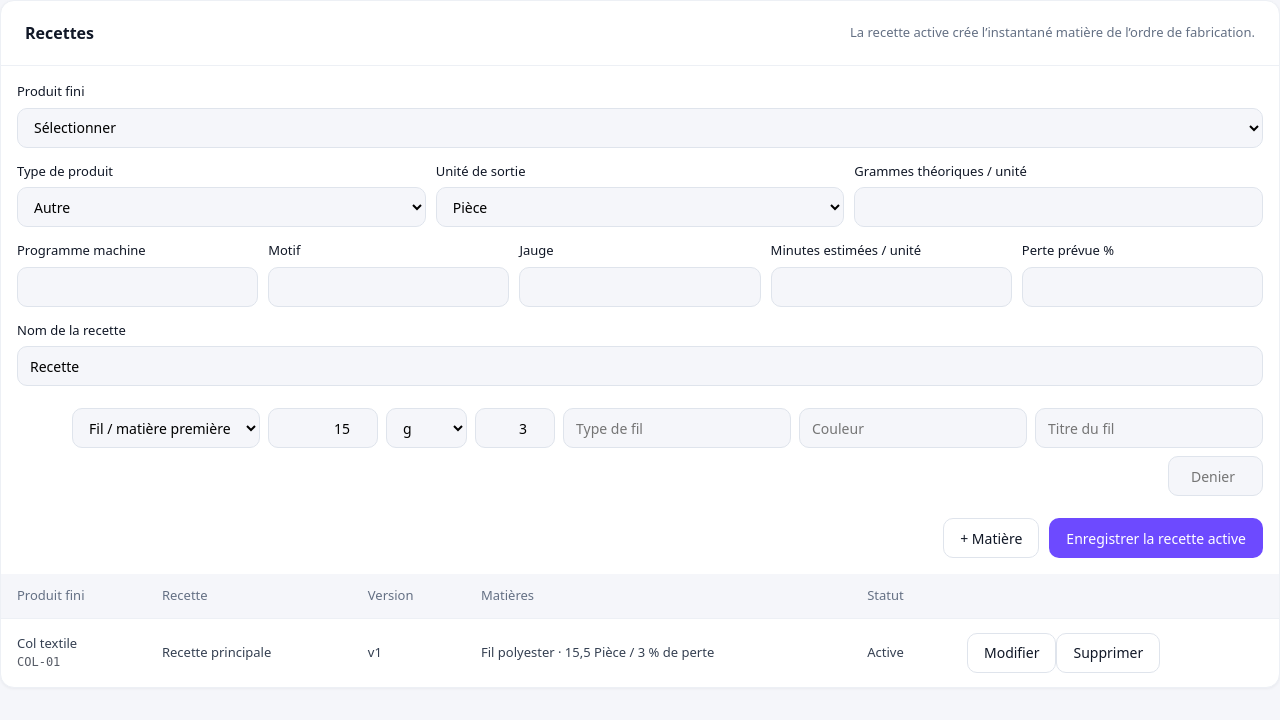
Test: BomRecipesTab localization and safety › translates units and requires confirmation before deleting a recipe
The width and height of the screenshot is (1280, 720).
Expected: the text "Recette principale" is shown, [146, 618, 352, 686]
Expected: the text "Fil polyester · 15,5 Pièce / 3 % de perte" is shown, [481, 643, 714, 661]
Click the button "Supprimer" at x=1108, y=652, box [1056, 632, 1160, 672]
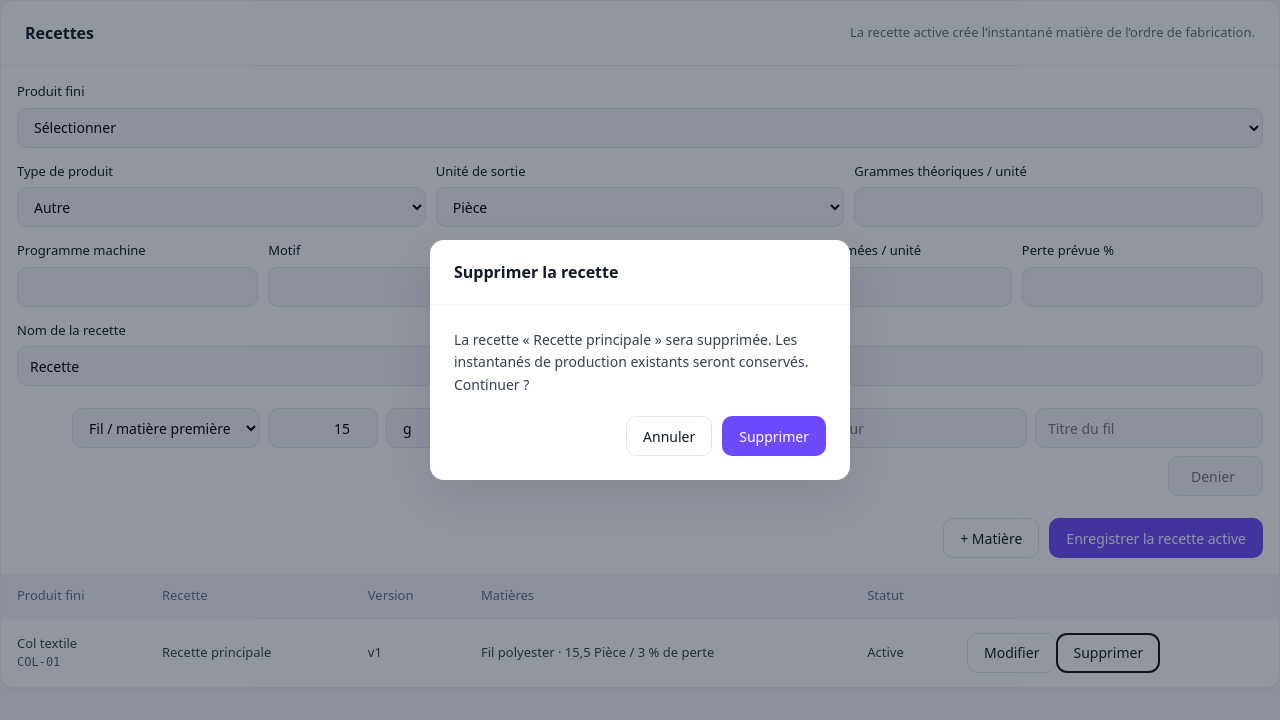
Expected: the dialog "Supprimer la recette" is shown, [430, 240, 850, 480]
